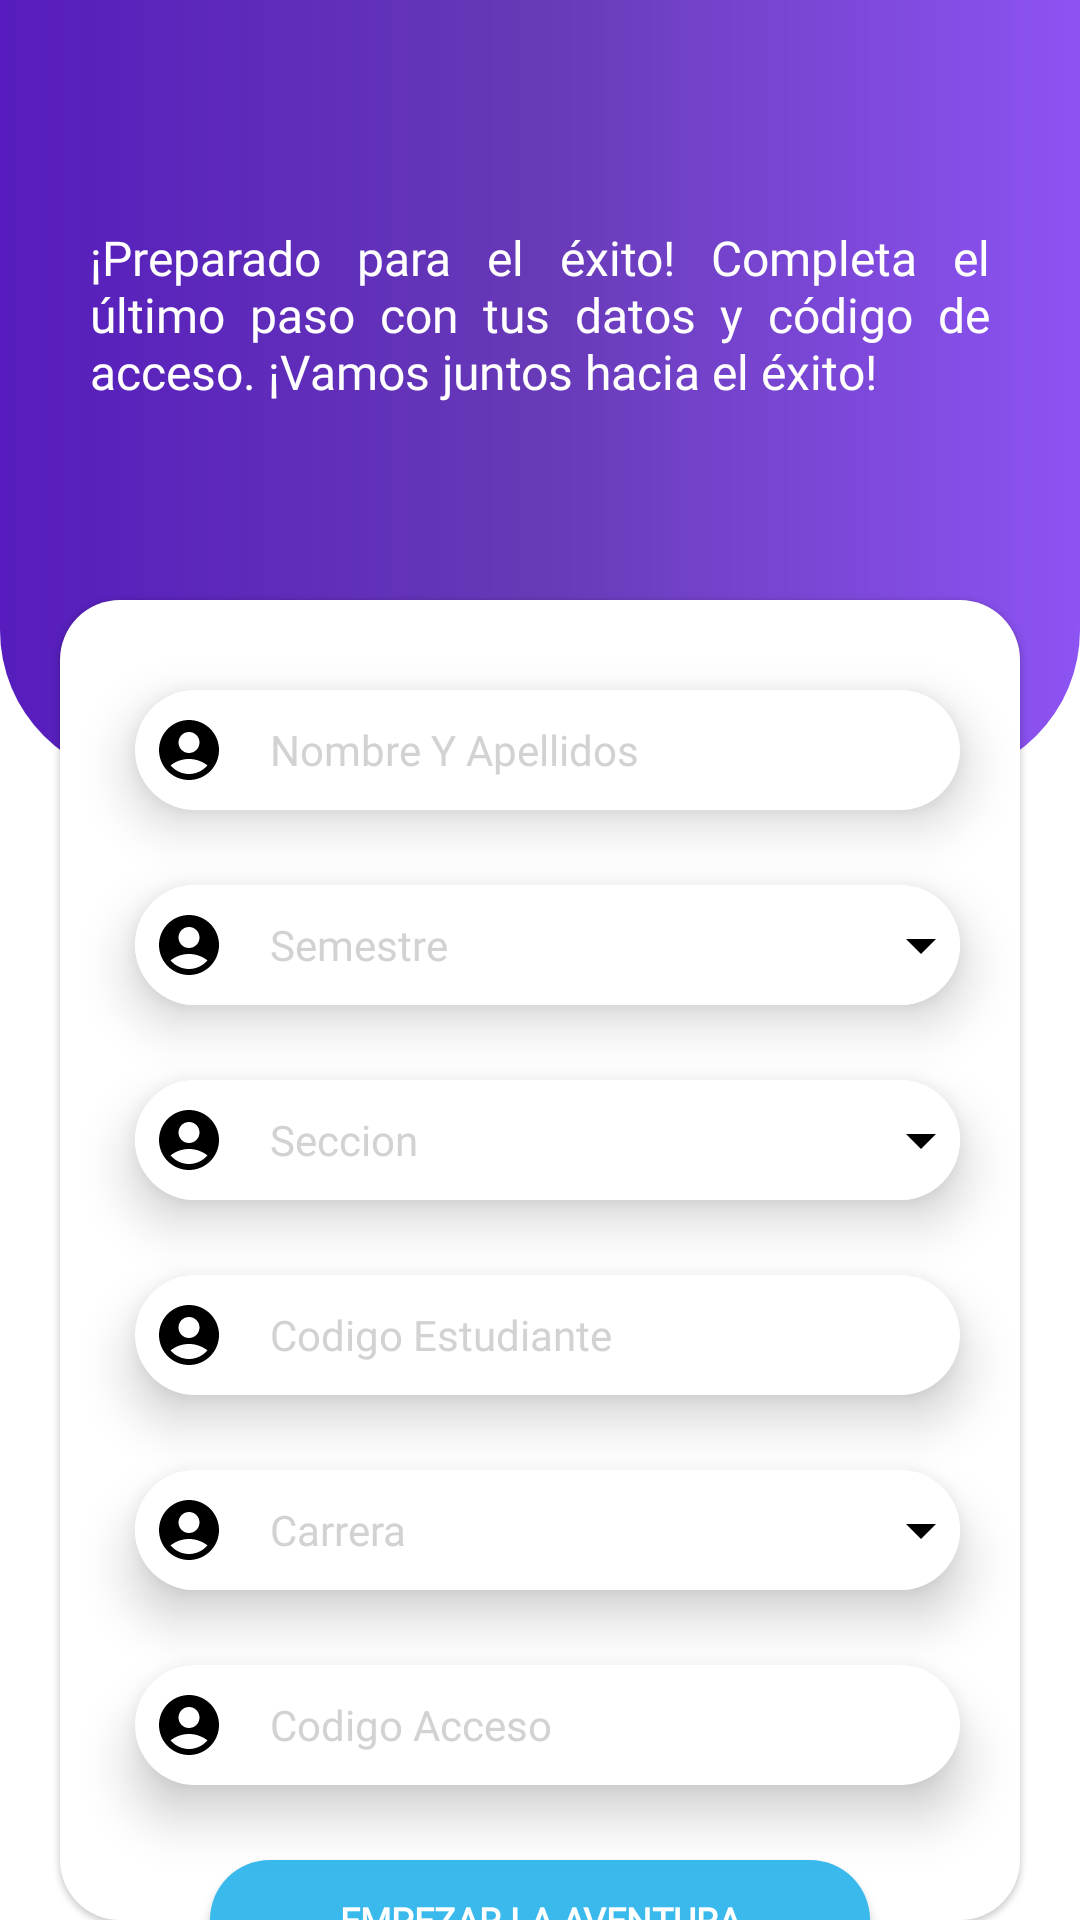

Named icons in this screenshot (1080px x 1920px) and their bounding boxes, box=[x1, y1, x2, y2]:
arrow drop down: box=[906, 939, 936, 954], box=[906, 1134, 936, 1149], box=[906, 1524, 936, 1539]
